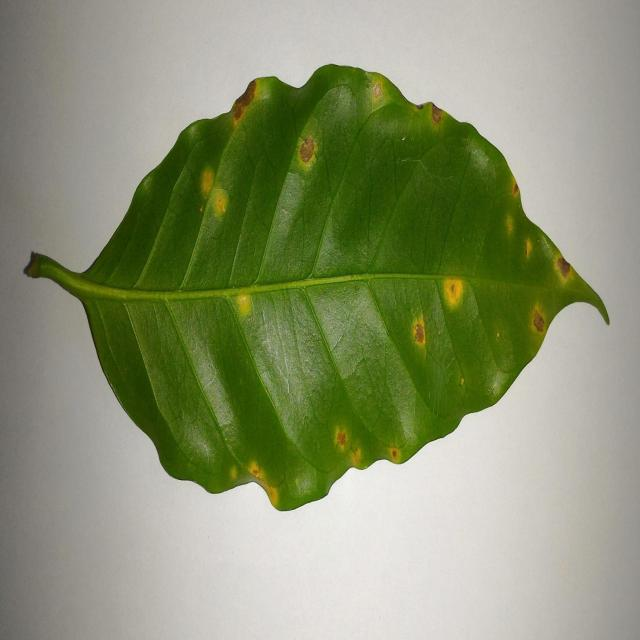rust: (409, 315, 451, 373), (246, 460, 288, 511), (333, 424, 372, 469), (200, 166, 229, 222), (439, 276, 477, 318), (551, 242, 583, 287), (368, 73, 401, 114), (228, 286, 254, 326)
